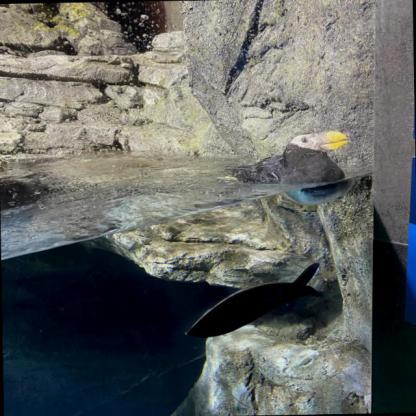puffin: (224, 129, 350, 206)
